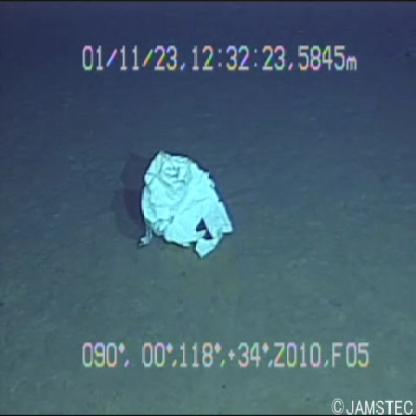Rác: (121, 141, 237, 273)
